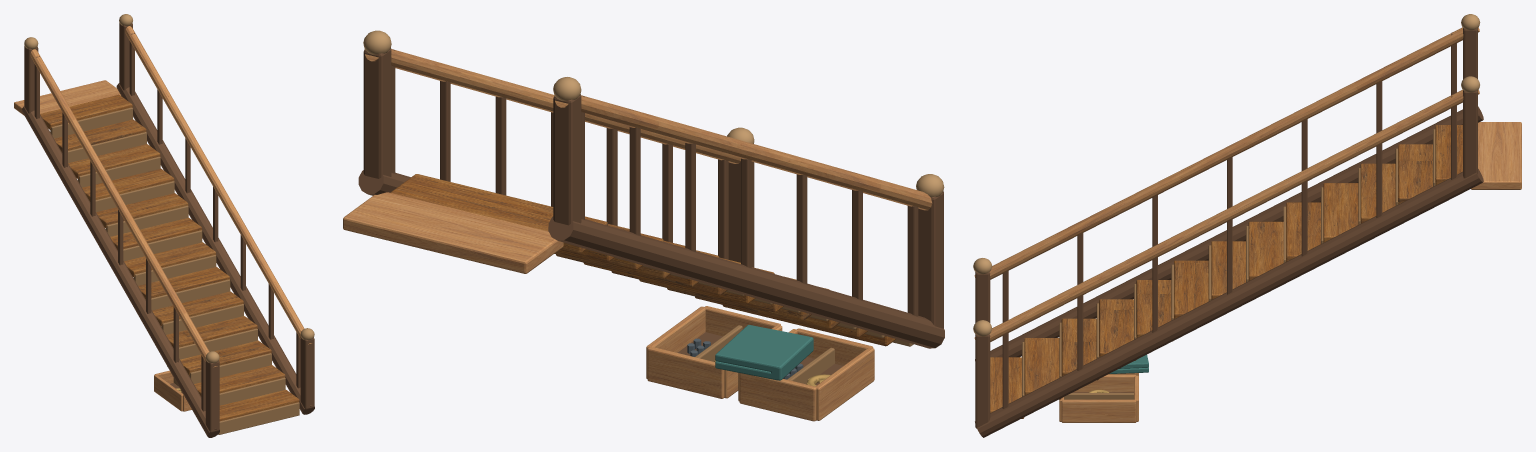
3 renders of one model, left to right at view 1: azimuth 30°, elevation 25°; view 2: azimuth 150°, elevation 25°; view 3: azimuth 270°, elevation 25°, orthographic. The views are drawn at different scales.
Visible parts, largest first — view 1: workshop_wood_dark, workshop_bench, workshop_wood, workshop_oak, workshop_wood_edge; view 2: workshop_wood_dark, workshop_oak, workshop_bench, workshop_teal, workshop_wood_edge, workshop_wood; view 3: workshop_wood_dark, workshop_bench, workshop_oak, workshop_wood, workshop_wood_edge.
Boxes of the visible parts, bbox=[...] form: workshop_wood_dark: bbox=[22, 23, 314, 437]; workshop_bench: bbox=[40, 94, 299, 421]; workshop_wood: bbox=[50, 107, 299, 434]; workshop_oak: bbox=[14, 26, 312, 411]; workshop_wood_edge: bbox=[24, 14, 314, 363]; workshop_wood_dark: bbox=[358, 48, 944, 385]; workshop_oak: bbox=[343, 49, 932, 421]; workshop_bench: bbox=[390, 174, 896, 346]; workshop_teal: bbox=[715, 324, 813, 380]; workshop_wood_edge: bbox=[363, 30, 944, 197]; workshop_wood: bbox=[587, 249, 913, 384]; workshop_wood_dark: bbox=[975, 28, 1483, 437]; workshop_bench: bbox=[990, 125, 1462, 418]; workshop_oak: bbox=[974, 27, 1521, 422]; workshop_wood: bbox=[1022, 129, 1435, 399]; workshop_wood_edge: bbox=[973, 14, 1480, 336].
Bounding box in the file's own units: 1.56 × 3.72 × 5.14.
Materials: 9 (2 with a texture image).
